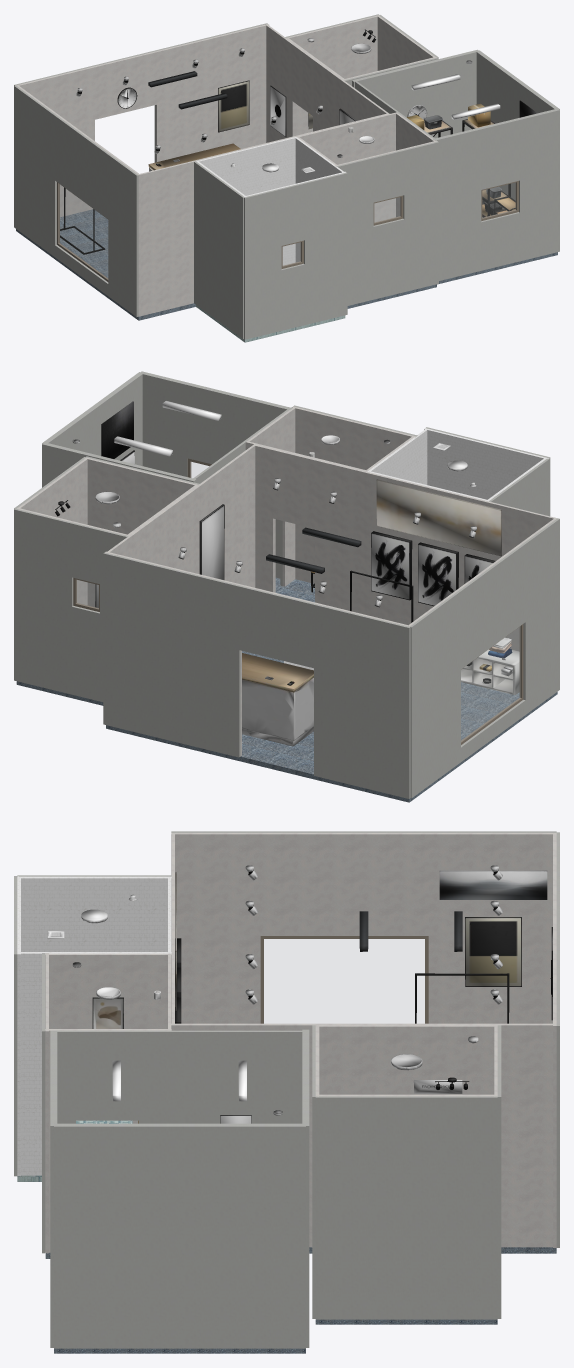
Rendered from scene_named.glb.
The picture shows the model from 3 angles, top to bottom: view 1: azimuth 30°, elevation 25°; view 2: azimuth 150°, elevation 25°; view 3: azimuth 270°, elevation 25°; orthographic projection. The views are drawn at different scales.
Visible parts, largest first — view 1: north_wall_showroom/north_wall_showroom/geometry_0, south_wall_exterior_storage_room/south_wall_exterior_storage, west_wall_exterior_showroom/west_wall_exterior_showroom/geom, south_wall_exterior_bathroom/south_wall_exterior_bathroom/ge, south_wall_exterior_back_lobby/south_wall_exterior_back_lobb, south_wall_showroom/south_wall_showroom/geometry_0, west_wall_exterior_bathroom/west_wall_exterior_bathroom/geom, east_wall_showroom/east_wall_showroom/geometry_0, north_wall_storage_room/north_wall_storage_room/geometry_0, north_wall_bathroom/north_wall_bathroom/geometry_0, north_wall_fitting_room/north_wall_fitting_room/geometry_0, north_wall_back_lobby/north_wall_back_lobby/geometry_0 (+18 smaller); view 2: north_wall_exterior_showroom/north_wall_exterior_showroom/ge, west_wall_exterior_showroom/west_wall_exterior_showroom/geom, south_wall_showroom/south_wall_showroom/geometry_0, north_wall_exterior_fitting_room/north_wall_exterior_fitting, east_wall_showroom/east_wall_showroom/geometry_0, south_wall_storage_room/south_wall_storage_room/geometry_0, canvas_0, checkout_counter_0, floor_showroom, south_wall_back_lobby/south_wall_back_lobby/geometry_0, south_wall_fitting_room/south_wall_fitting_room/geometry_0, south_wall_bathroom/south_wall_bathroom/geometry_0 (+17 smaller); view 3: east_wall_exterior_storage_room/east_wall_exterior_storage_r, west_wall_showroom/west_wall_showroom/geometry_0, east_wall_exterior_fitting_room/east_wall_exterior_fitting_r, west_wall_storage_room/west_wall_storage_room/geometry_0, east_wall_showroom/east_wall_showroom/geometry_0, window_6_showroom/window_6_showroom/glass, west_wall_fitting_room/west_wall_fitting_room/geometry_0, west_wall_bathroom/west_wall_bathroom/geometry_0, west_wall_back_lobby/west_wall_back_lobby/geometry_0, east_wall_bathroom/east_wall_bathroom/geometry_0, print_5, photograph_print_0 (+18 smaller).
Part boxes in pixels (box(x1,y1,x2,y2)): north_wall_showroom/north_wall_showroom/geometry_0: box(18, 24, 269, 217); south_wall_exterior_storage_room/south_wall_exterior_storage: box(434, 109, 559, 280); west_wall_exterior_showroom/west_wall_exterior_showroom/geom: box(14, 85, 138, 316); south_wall_exterior_bathroom/south_wall_exterior_bathroom/ge: box(244, 172, 347, 339); south_wall_exterior_back_lobby/south_wall_exterior_back_lobb: box(336, 141, 438, 305); south_wall_showroom/south_wall_showroom/geometry_0: box(138, 113, 388, 315); west_wall_exterior_bathroom/west_wall_exterior_bathroom/geom: box(194, 161, 243, 338); east_wall_showroom/east_wall_showroom/geometry_0: box(265, 24, 389, 142); north_wall_storage_room/north_wall_storage_room/geometry_0: box(353, 51, 476, 138); north_wall_bathroom/north_wall_bathroom/geometry_0: box(196, 137, 296, 265); north_wall_fitting_room/north_wall_fitting_room/geometry_0: box(287, 15, 380, 135); north_wall_back_lobby/north_wall_back_lobby/geometry_0: box(296, 113, 395, 222); north_wall_exterior_showroom/north_wall_exterior_showroom/ge: box(103, 552, 410, 798); west_wall_exterior_showroom/west_wall_exterior_showroom/geom: box(409, 518, 559, 798); south_wall_showroom/south_wall_showroom/geometry_0: box(253, 444, 556, 651); north_wall_exterior_fitting_room/north_wall_exterior_fitting: box(14, 508, 128, 701); east_wall_showroom/east_wall_showroom/geometry_0: box(106, 445, 255, 587); south_wall_storage_room/south_wall_storage_room/geometry_0: box(142, 373, 291, 578); canvas_0: box(376, 479, 501, 556); checkout_counter_0: box(242, 653, 313, 746); floor_showroom: box(106, 651, 557, 802); south_wall_back_lobby/south_wall_back_lobby/geometry_0: box(291, 406, 416, 583); south_wall_fitting_room/south_wall_fitting_room/geometry_0: box(84, 457, 197, 607); south_wall_bathroom/south_wall_bathroom/geometry_0: box(424, 428, 548, 499); east_wall_exterior_storage_room/east_wall_exterior_storage_r: box(54, 1125, 305, 1348); west_wall_showroom/west_wall_showroom/geometry_0: box(171, 833, 556, 1023); east_wall_exterior_fitting_room/east_wall_exterior_fitting_r: box(315, 1096, 497, 1319); west_wall_storage_room/west_wall_storage_room/geometry_0: box(54, 1030, 305, 1123); east_wall_showroom/east_wall_showroom/geometry_0: box(171, 1023, 556, 1247); window_6_showroom/window_6_showroom/glass: box(264, 939, 424, 1023); west_wall_fitting_room/west_wall_fitting_room/geometry_0: box(319, 1025, 494, 1094); west_wall_bathroom/west_wall_bathroom/geometry_0: box(17, 876, 171, 951); west_wall_back_lobby/west_wall_back_lobby/geometry_0: box(45, 953, 171, 1123); east_wall_bathroom/east_wall_bathroom/geometry_0: box(17, 952, 171, 1175); print_5: box(465, 917, 521, 986); photograph_print_0: box(439, 870, 547, 899).
Size of the model in its own units: 9.98 by 3.6 by 7.8.
104 materials, 100 textured.
